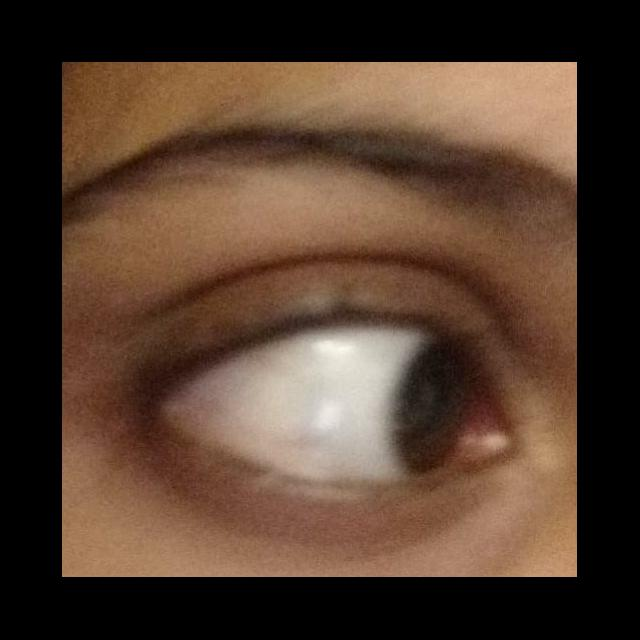eye: (165, 318, 475, 482)
iris: (389, 328, 470, 476)
